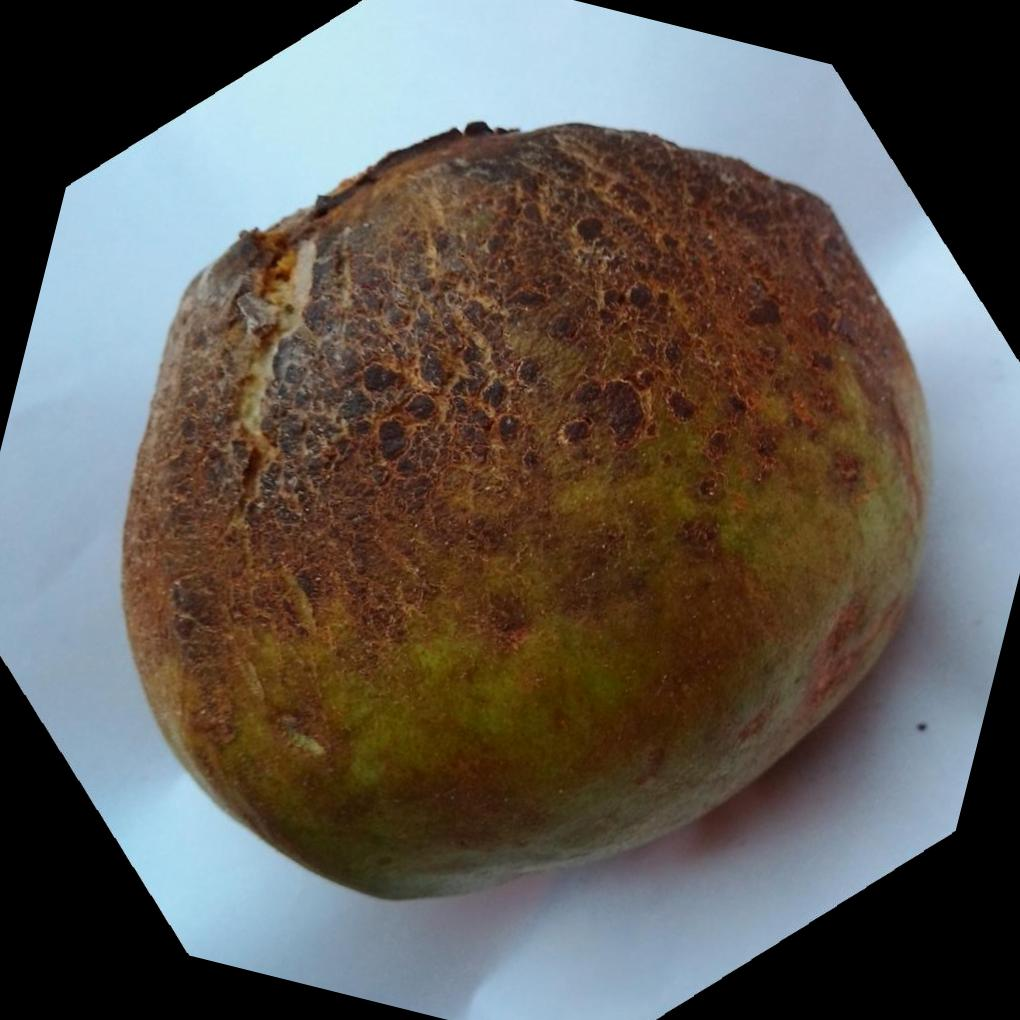FreshOrange: (114, 119, 931, 902)
